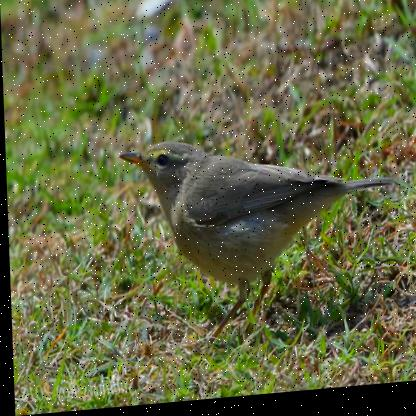Burung: (112, 127, 402, 361)
